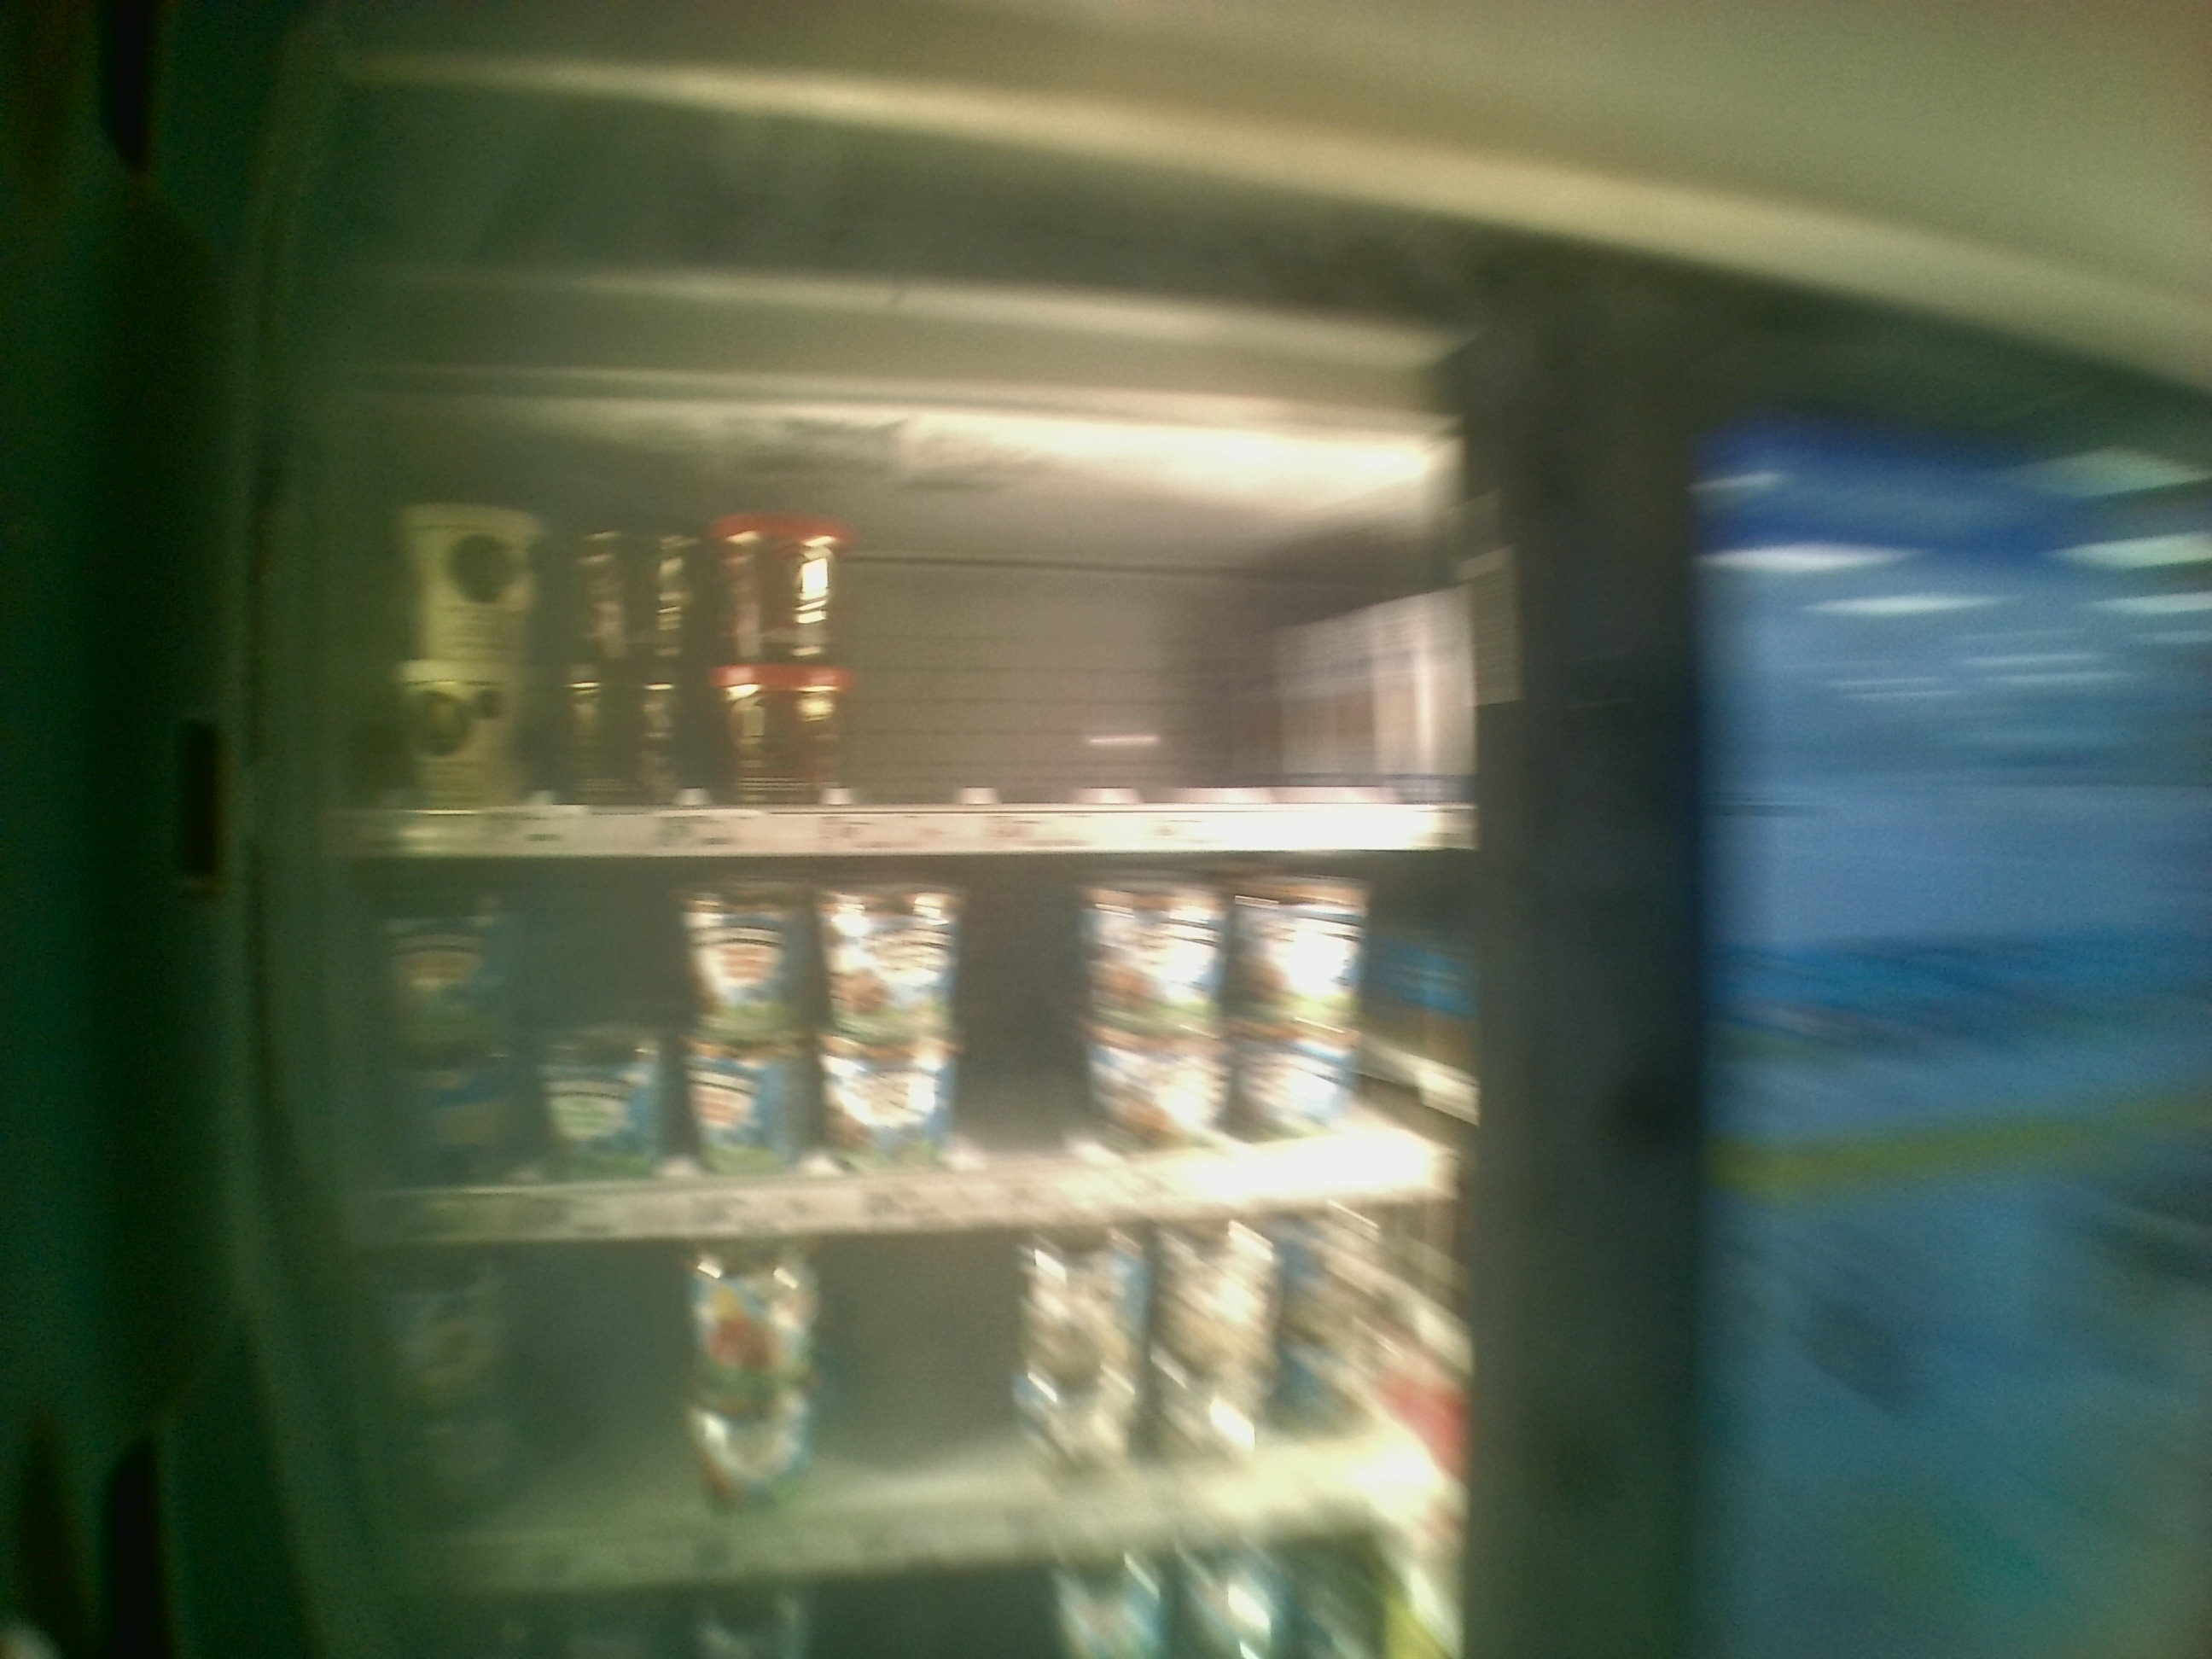shelf: (359, 408, 1470, 852), (354, 852, 1474, 1225)
